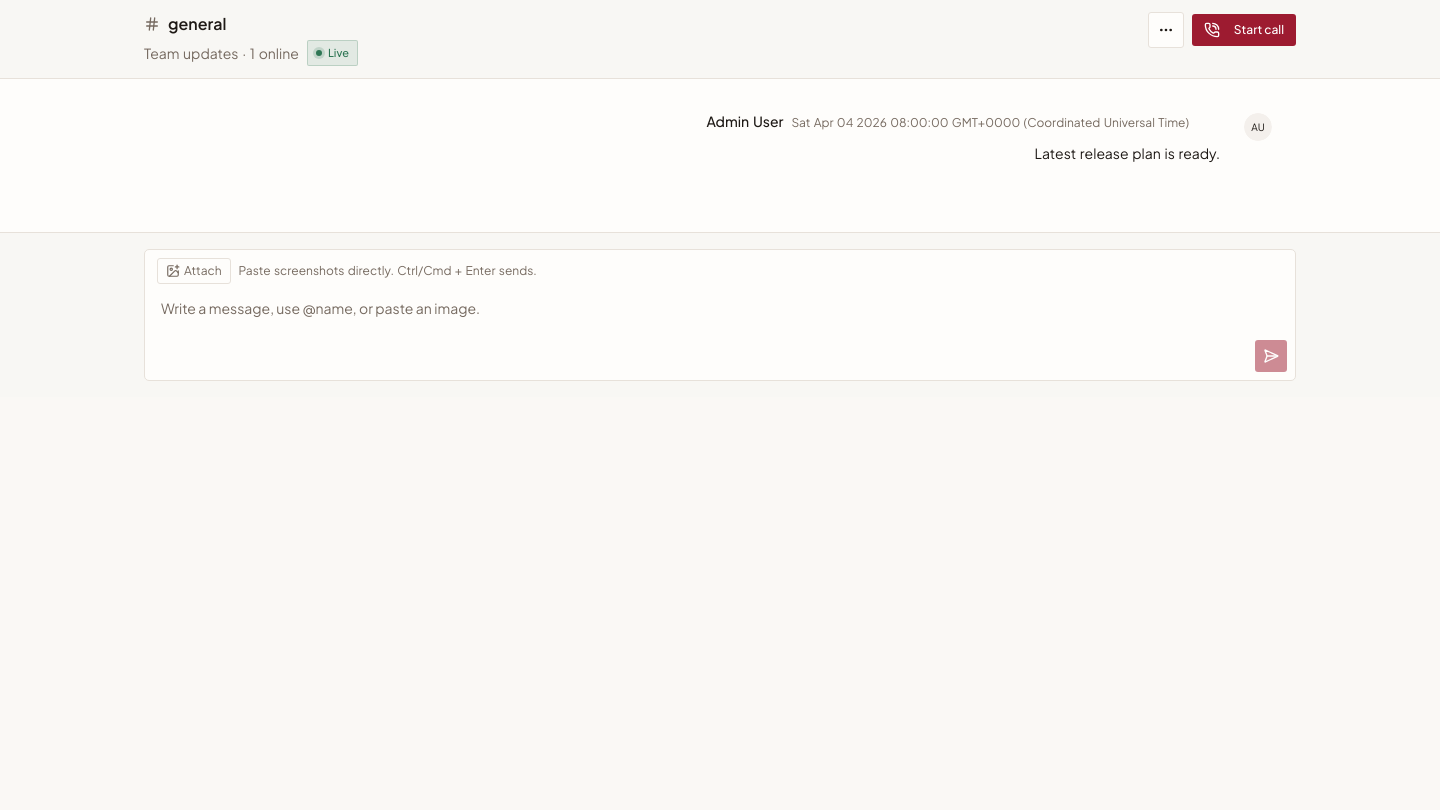
Test: ChatShell › opens the voice setup panel first and then joins the inline voice dock
The width and height of the screenshot is (1440, 810).
Click the button "Start call": (1244, 30) [1192,14,1296,46]
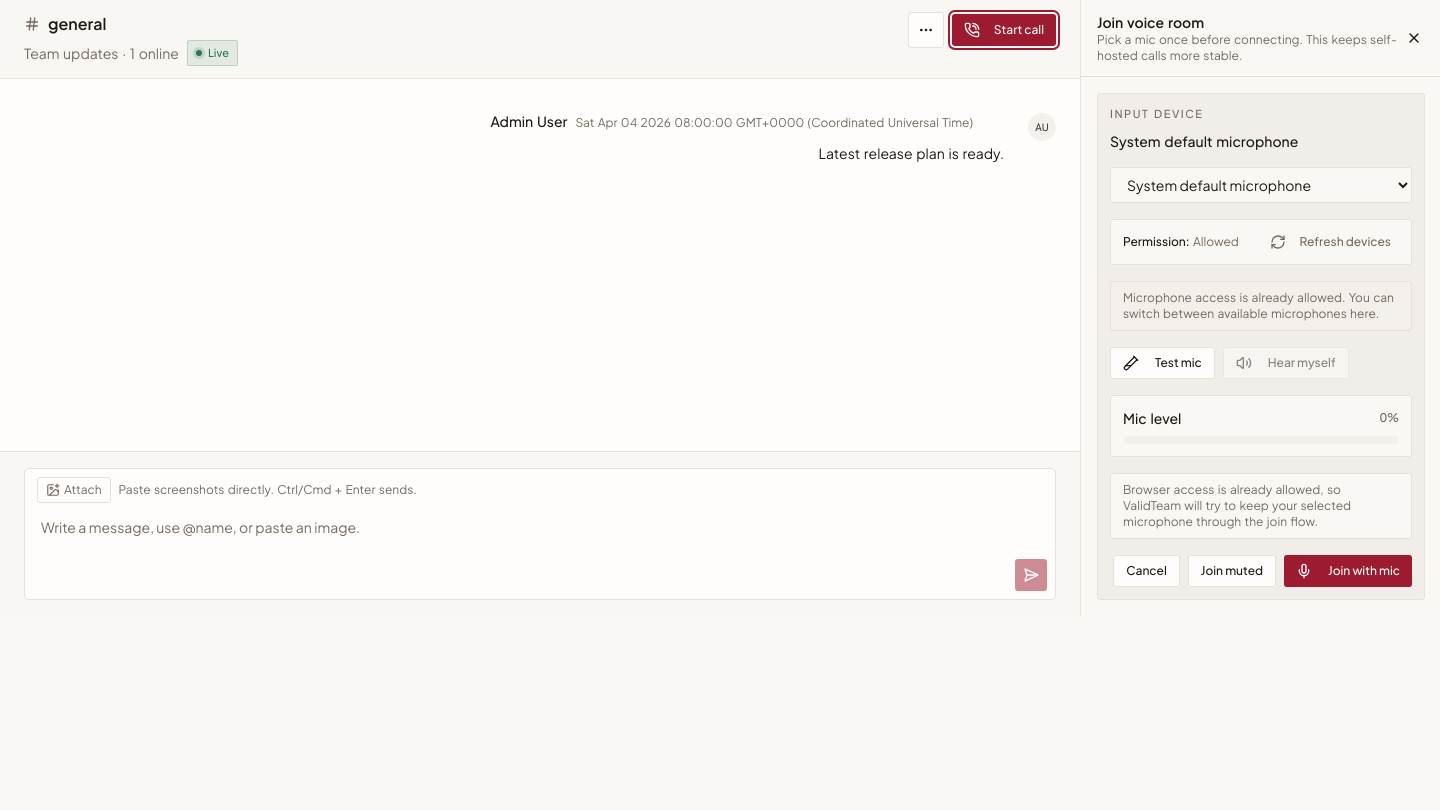
Result: the text "Join voice room" is shown at [1097,13,1204,31]
Result: the button "Join with mic" is enabled
Click the button "Join with mic": (1348, 570) [1284,554,1412,586]
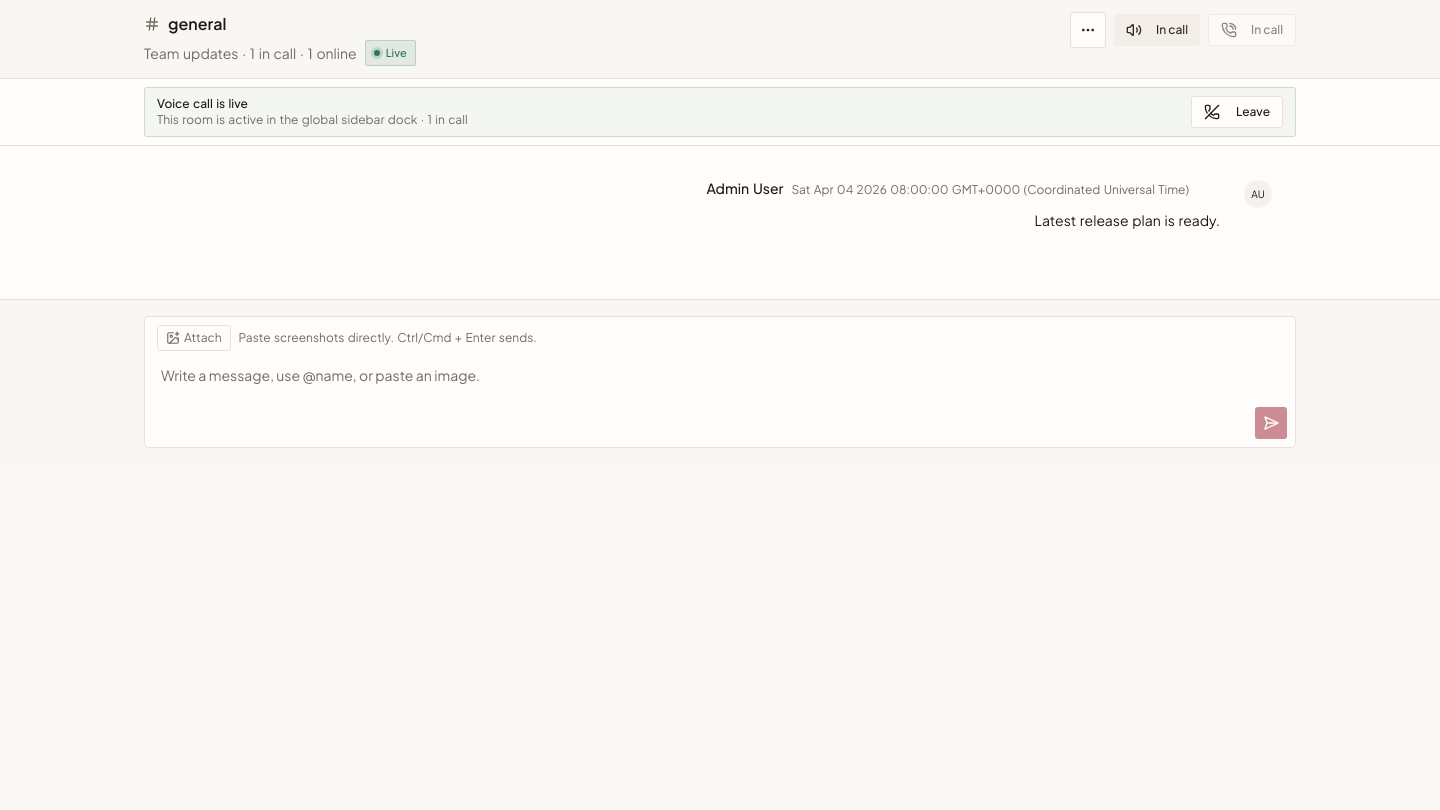
Result: the text "Voice call is live" is shown at [157,96,248,111]
Result: the 1st button "In call" is shown at [1114,14,1200,46]
Result: the text "Join voice room" is gone
